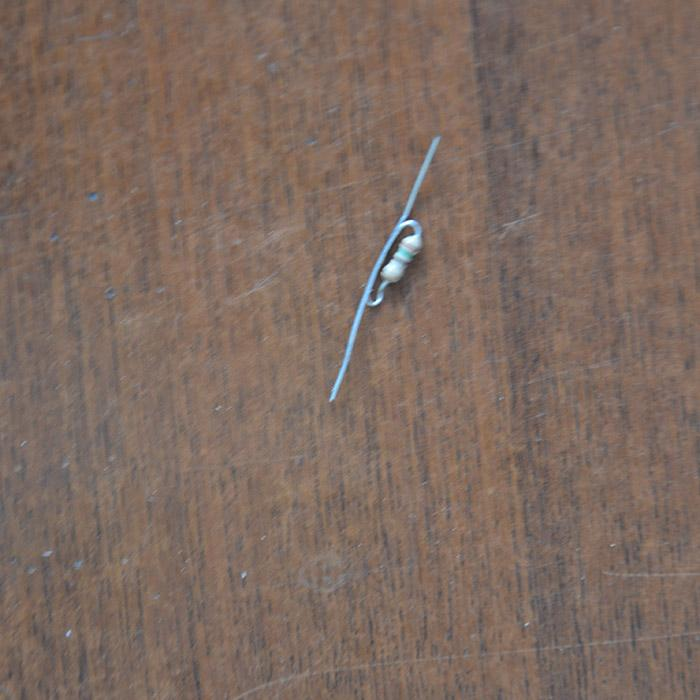resistor: (376, 227, 422, 287)
